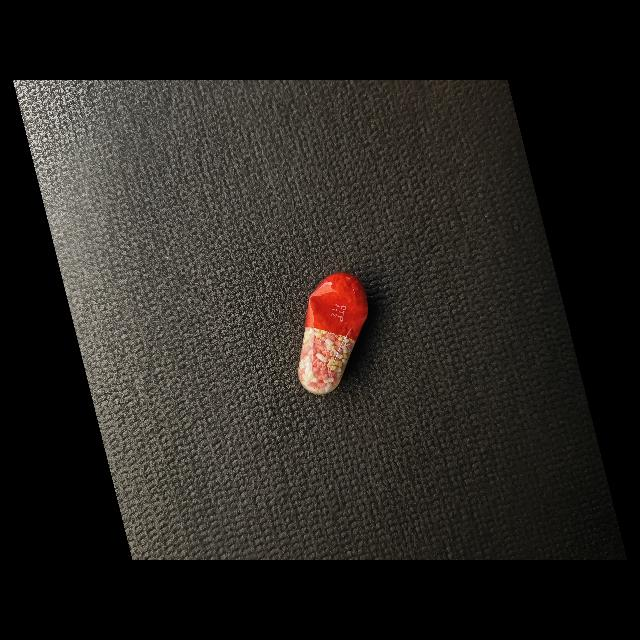Defective Capsule: (298, 273, 368, 395)
